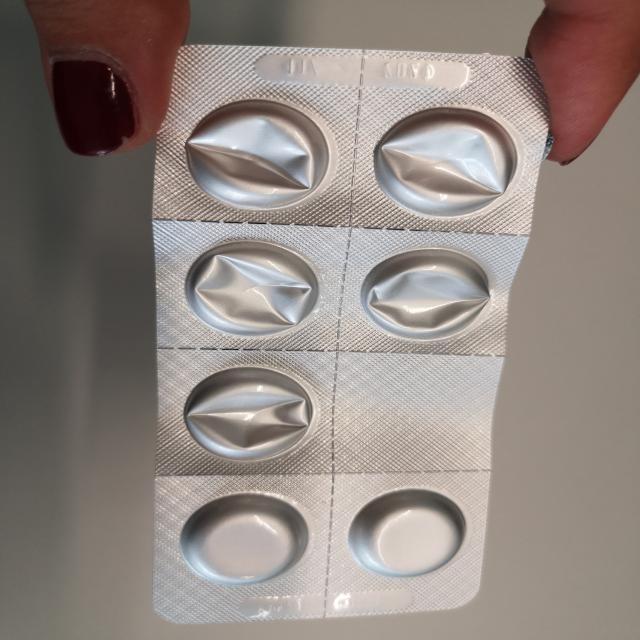Empty: (368, 103, 523, 220), (182, 94, 333, 214), (180, 237, 326, 343), (180, 362, 319, 464), (357, 246, 496, 344)
Pill: (172, 490, 310, 589), (345, 485, 469, 579)
